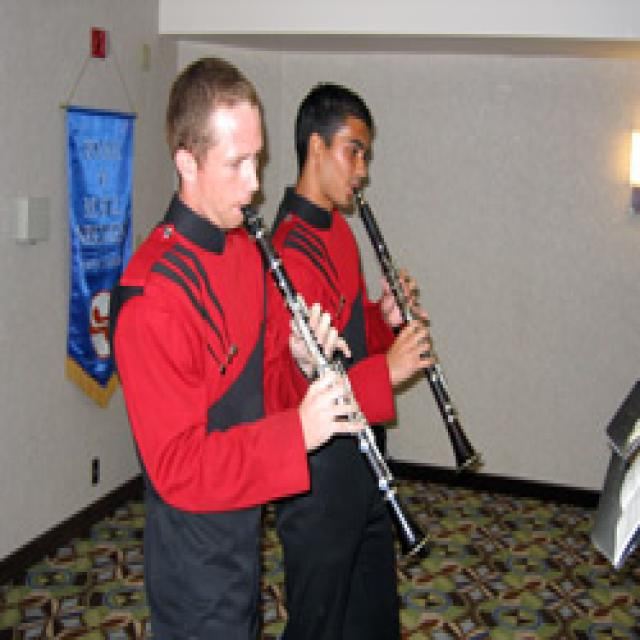clarinet: (241, 203, 433, 569), (350, 187, 487, 478)
